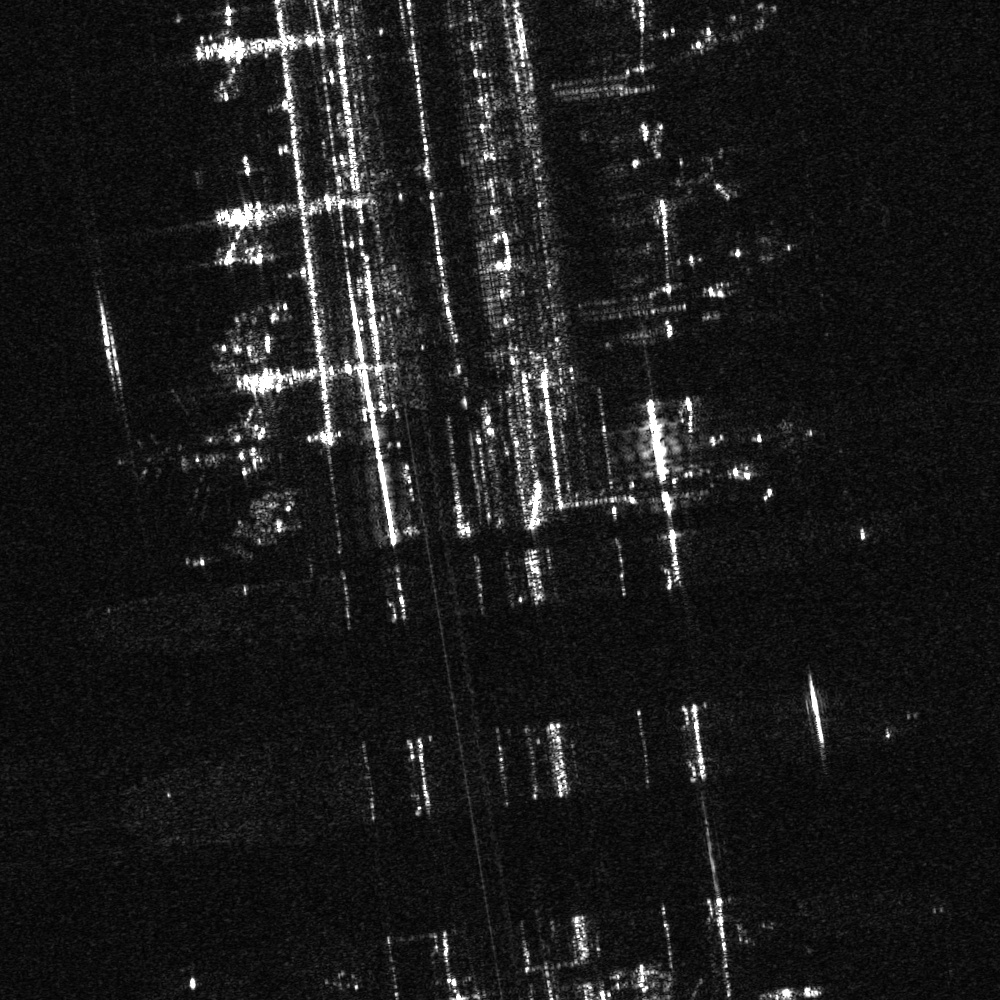A330: (118, 394, 233, 516)
